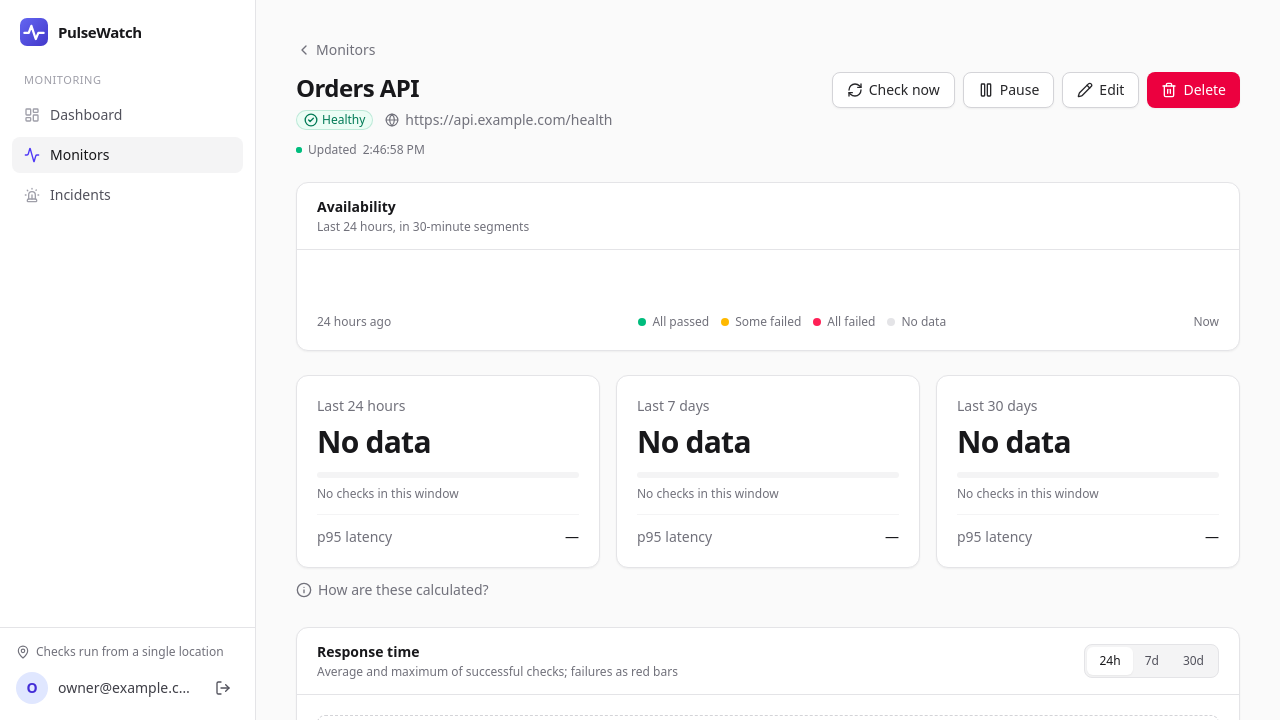
Test: monitor detail › asks for confirmation naming the monitor before deleting it
Click the button "Delete": (1194, 90) x1=1147 y1=72 x2=1240 y2=108
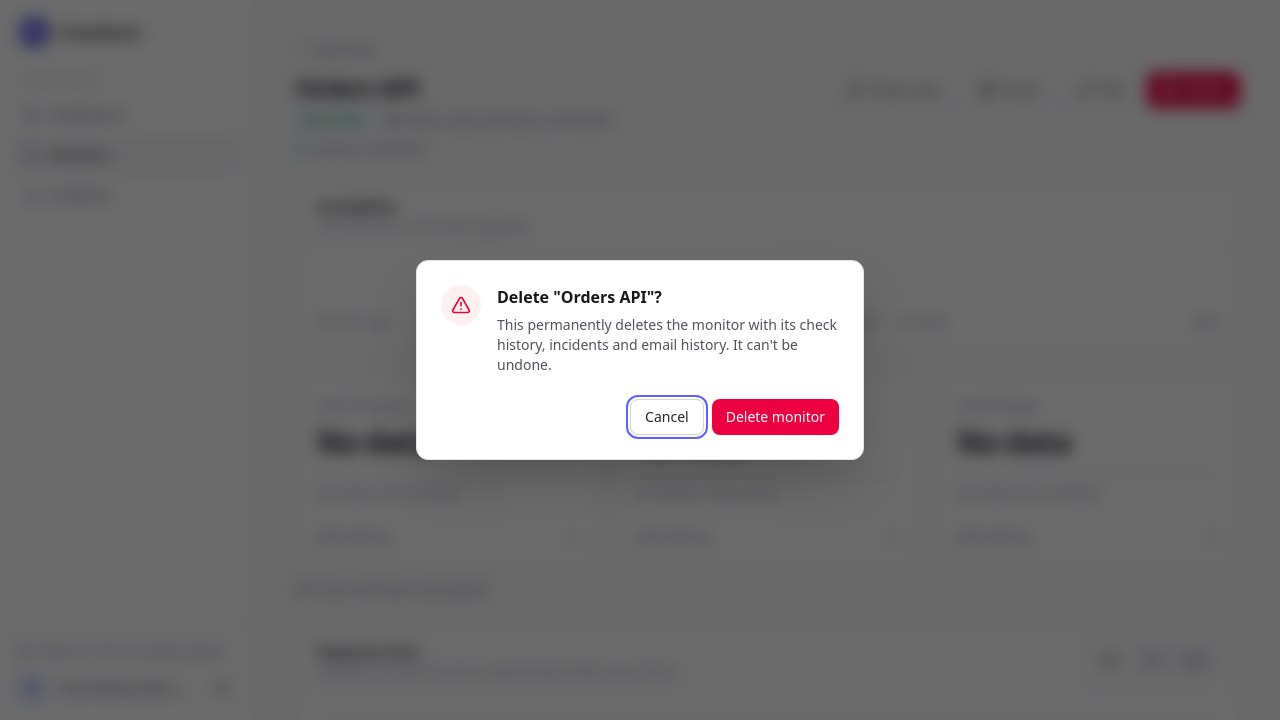
Click the button "Cancel": (667, 417) x1=630 y1=399 x2=704 y2=435
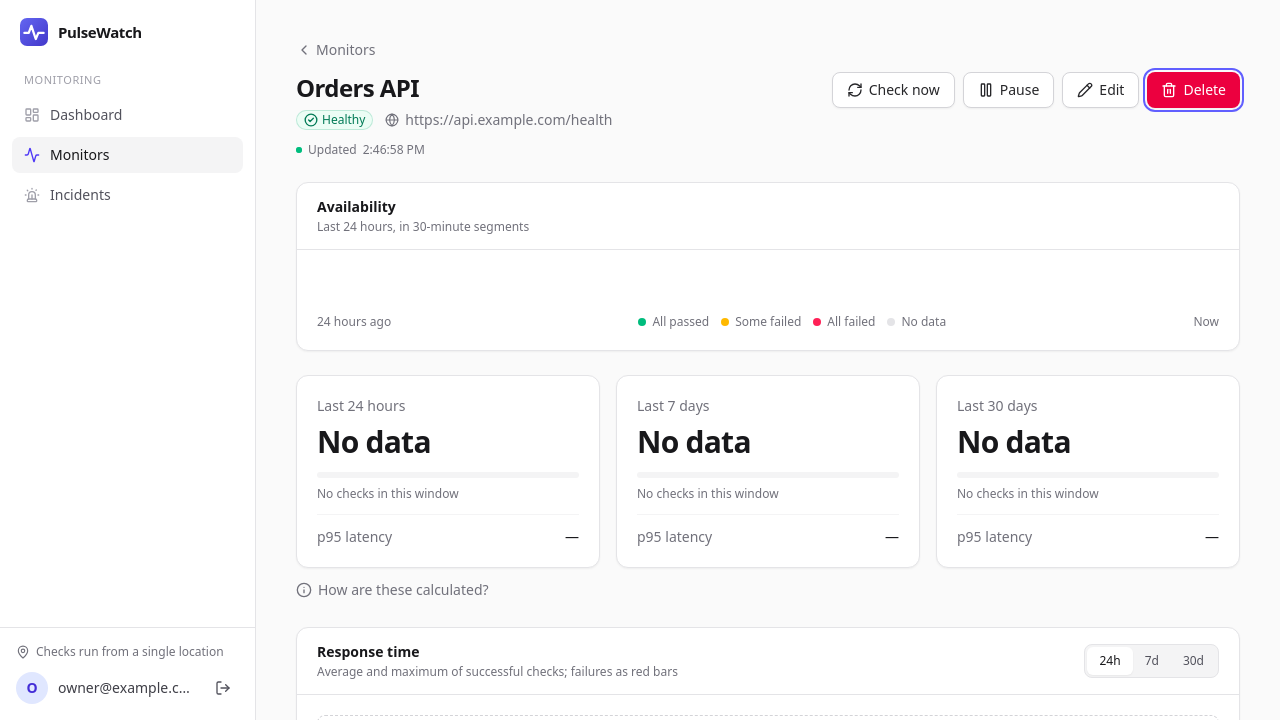
Expected: the dialog is gone
Click the button "Delete": (1194, 90) x1=1147 y1=72 x2=1240 y2=108
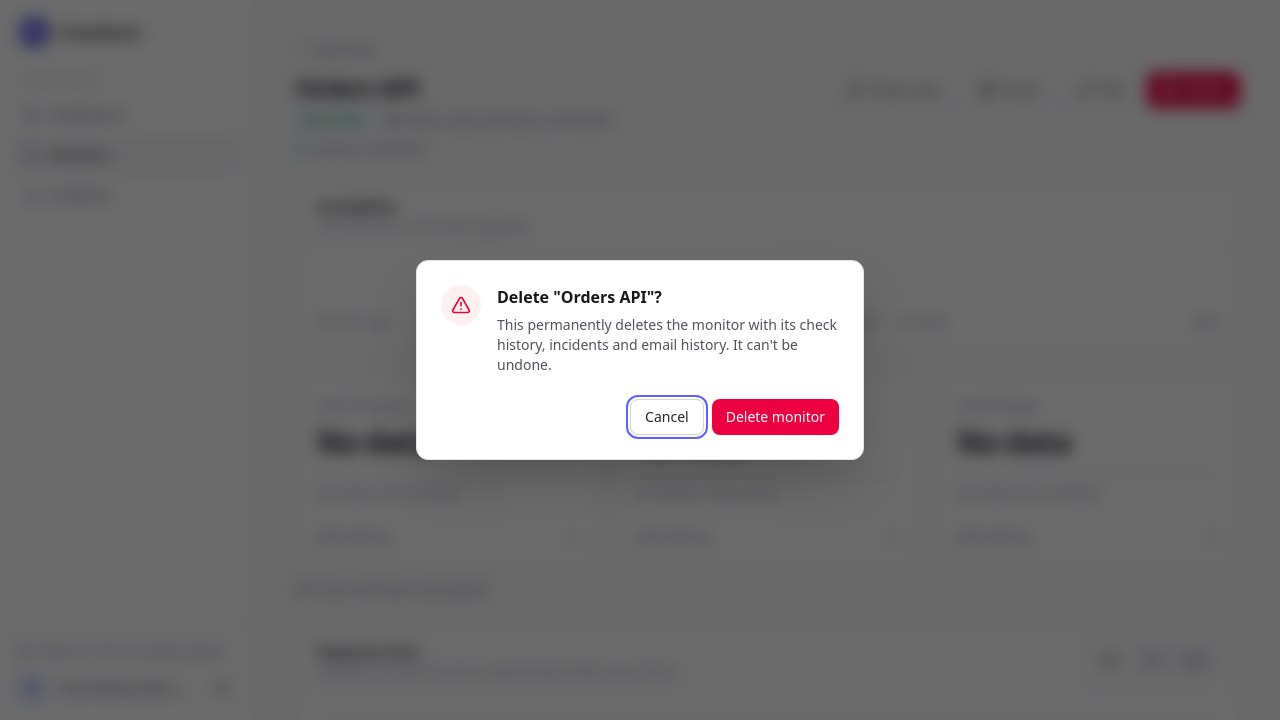
Click the button "Delete monitor": (775, 417) x1=712 y1=399 x2=839 y2=435
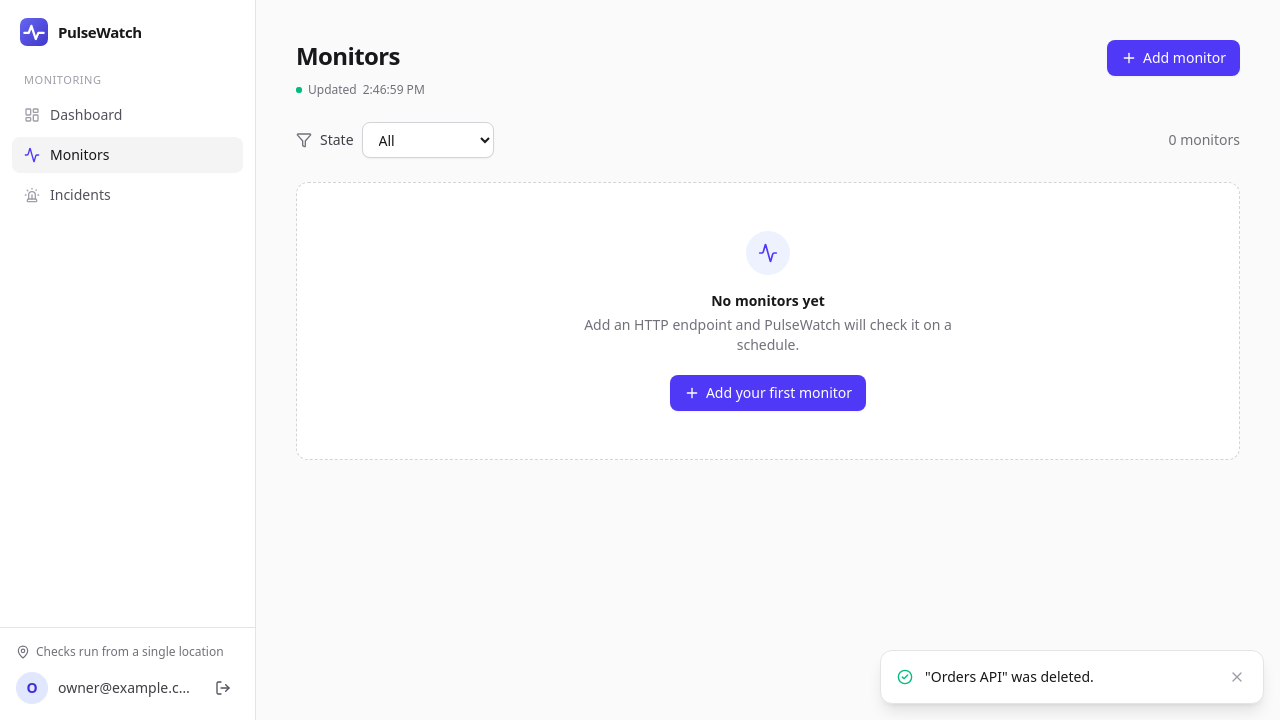
Expected: the text "\"Orders API\" was deleted." is shown, x1=925 y1=667 x2=1094 y2=686
